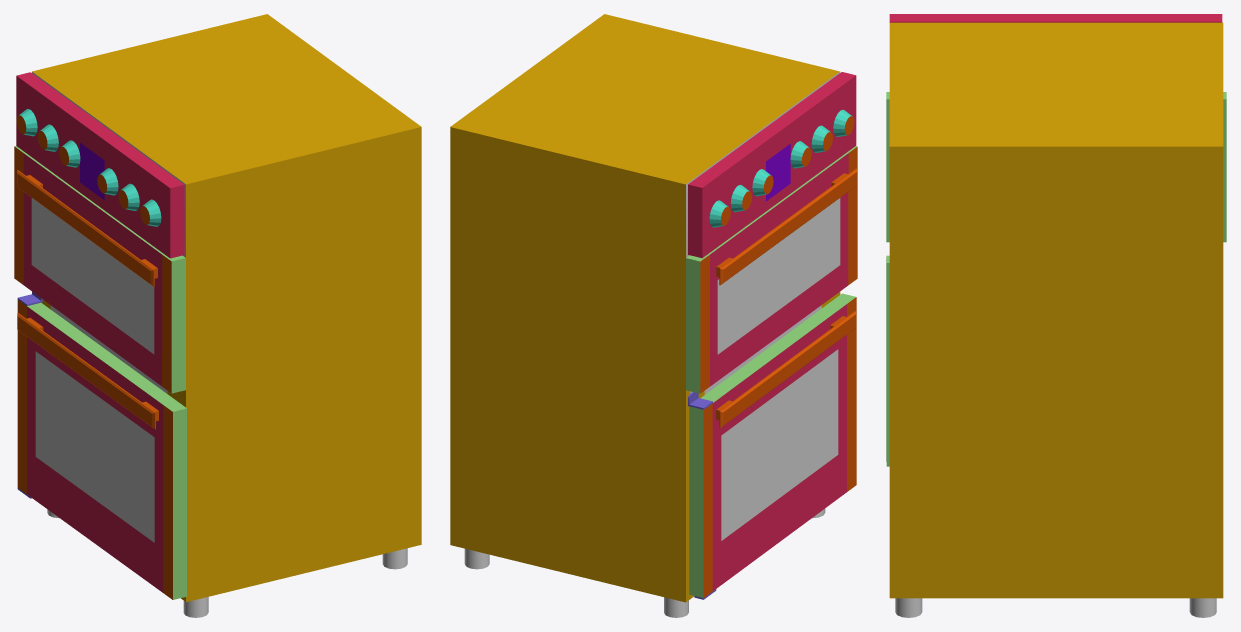
The model's file is Electric Oven.fbx.
The picture shows the model from 3 angles, left to right: view 1: azimuth 30°, elevation 25°; view 2: azimuth 150°, elevation 25°; view 3: azimuth 270°, elevation 25°; orthographic projection. The views are drawn at different scales.
Parts seen in each view (by area): view 1: Oven; view 2: Oven; view 3: Oven.
Boxes of the visible parts, left/top/right/bottom form: Oven: left=14, top=14, right=421, bottom=617; Oven: left=450, top=14, right=857, bottom=617; Oven: left=886, top=14, right=1226, bottom=617.
Size of the model in its own units: 56.08 by 89.99 by 58.41.
